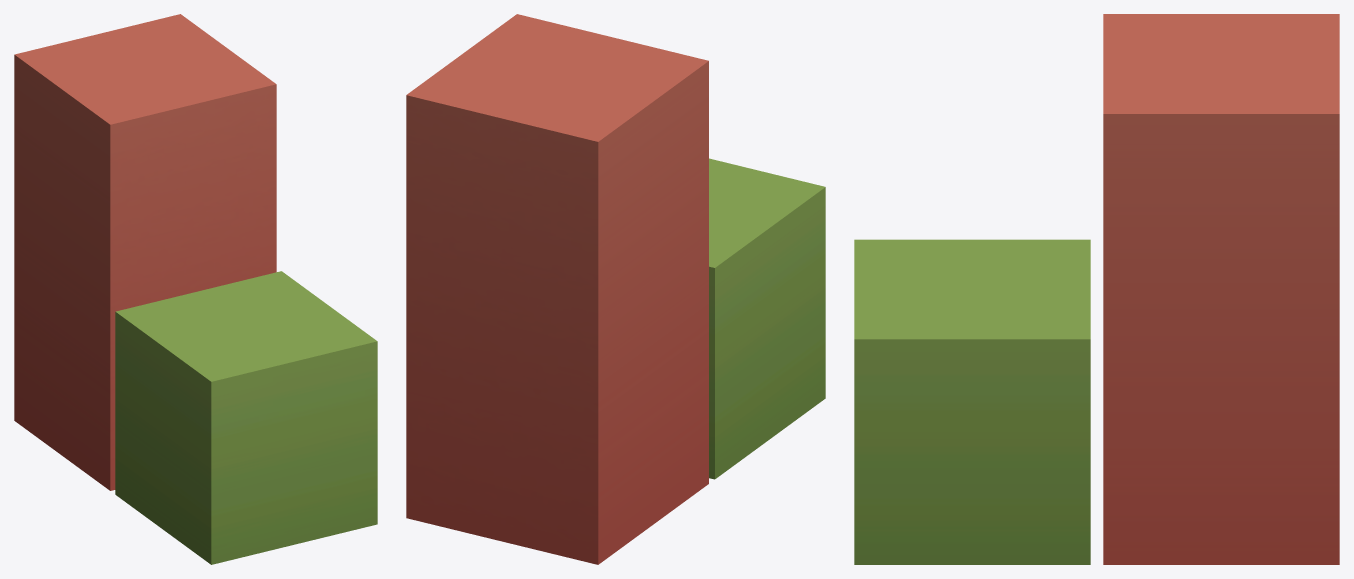
Rendered from Tileset.gltf.
The picture shows the model from 3 angles, left to right: view 1: azimuth 30°, elevation 25°; view 2: azimuth 150°, elevation 25°; view 3: azimuth 270°, elevation 25°; orthographic projection. The views are drawn at different scales.
Parts seen in each view (by area): view 1: Obstacle, Grass; view 2: Obstacle, Grass; view 3: Obstacle, Grass.
Boxes of the visible parts, bbox=[...] form: Obstacle: bbox=[14, 14, 276, 490]; Grass: bbox=[115, 271, 377, 564]; Obstacle: bbox=[406, 14, 708, 564]; Grass: bbox=[709, 158, 825, 479]; Obstacle: bbox=[1103, 14, 1339, 564]; Grass: bbox=[854, 239, 1090, 564].
Size of the model in its own units: 1.9 by 4 by 3.9.
2 materials, 2 textured.
